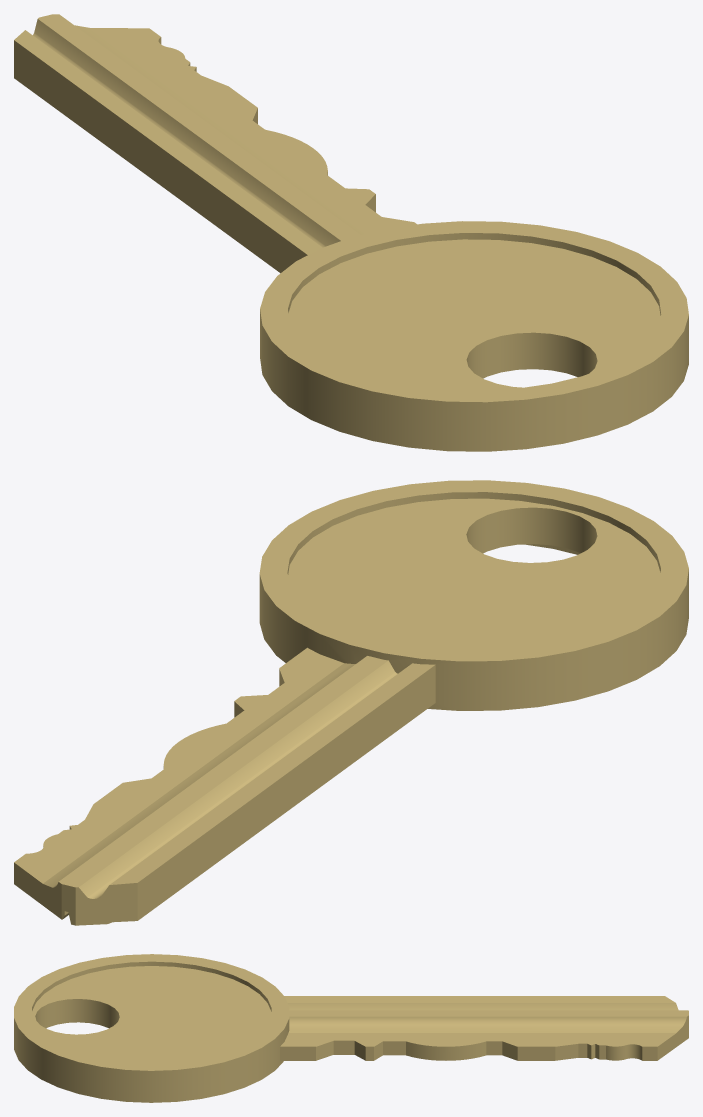
File: key.fbx
The picture shows the model from 3 angles, top to bottom: view 1: azimuth 30°, elevation 25°; view 2: azimuth 150°, elevation 25°; view 3: azimuth 270°, elevation 25°; orthographic projection. The views are drawn at different scales.
Parts seen in each view (by area): view 1: Group1; view 2: Group1; view 3: Group1.
Boxes of the visible parts, left/top/right/bottom form: Group1: left=14, top=14, right=688, bottom=451; Group1: left=14, top=480, right=688, bottom=925; Group1: left=14, top=954, right=688, bottom=1102.
Bounding box in the file's own units: 0.0249 × 0.00318 × 0.0609.
